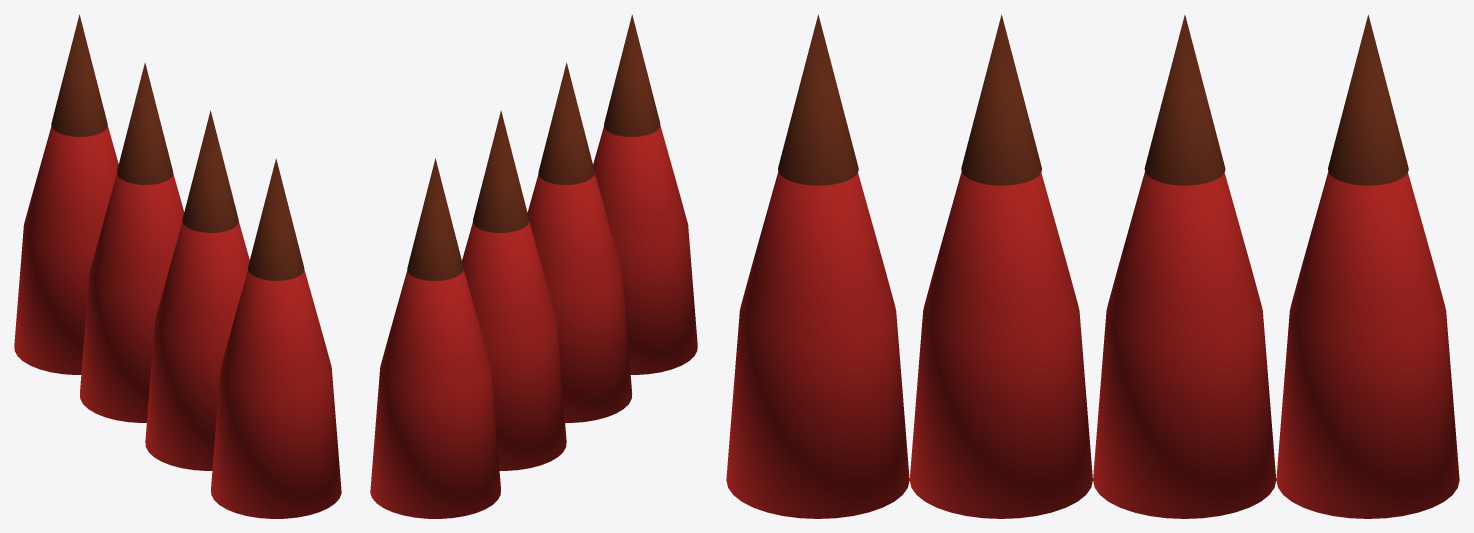
The model's file is diken.fbx.
3 views of the same model, side by side, from view 1: azimuth 30°, elevation 25°; view 2: azimuth 150°, elevation 25°; view 3: azimuth 270°, elevation 25° (orthographic). The views are drawn at different scales.
Parts seen in each view (by area): view 1: Cone; view 2: Cone; view 3: Cone.
Part boxes in pixels (<box>): Cone: <box>14,14,341,518</box>; Cone: <box>370,14,697,518</box>; Cone: <box>726,14,1459,518</box>.
Size of the model in its own units: 89.18 by 250 by 357.
